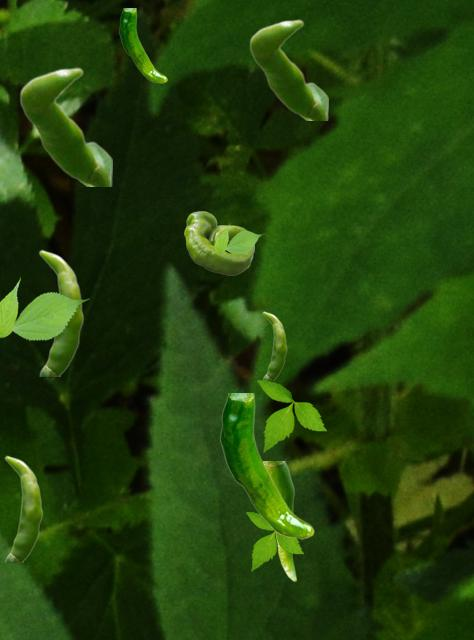green_chili: (220, 393, 313, 538), (19, 67, 111, 185), (249, 19, 327, 119), (38, 249, 83, 375), (184, 211, 253, 274), (4, 455, 42, 561), (264, 461, 295, 580), (119, 8, 166, 82), (262, 311, 286, 379)
